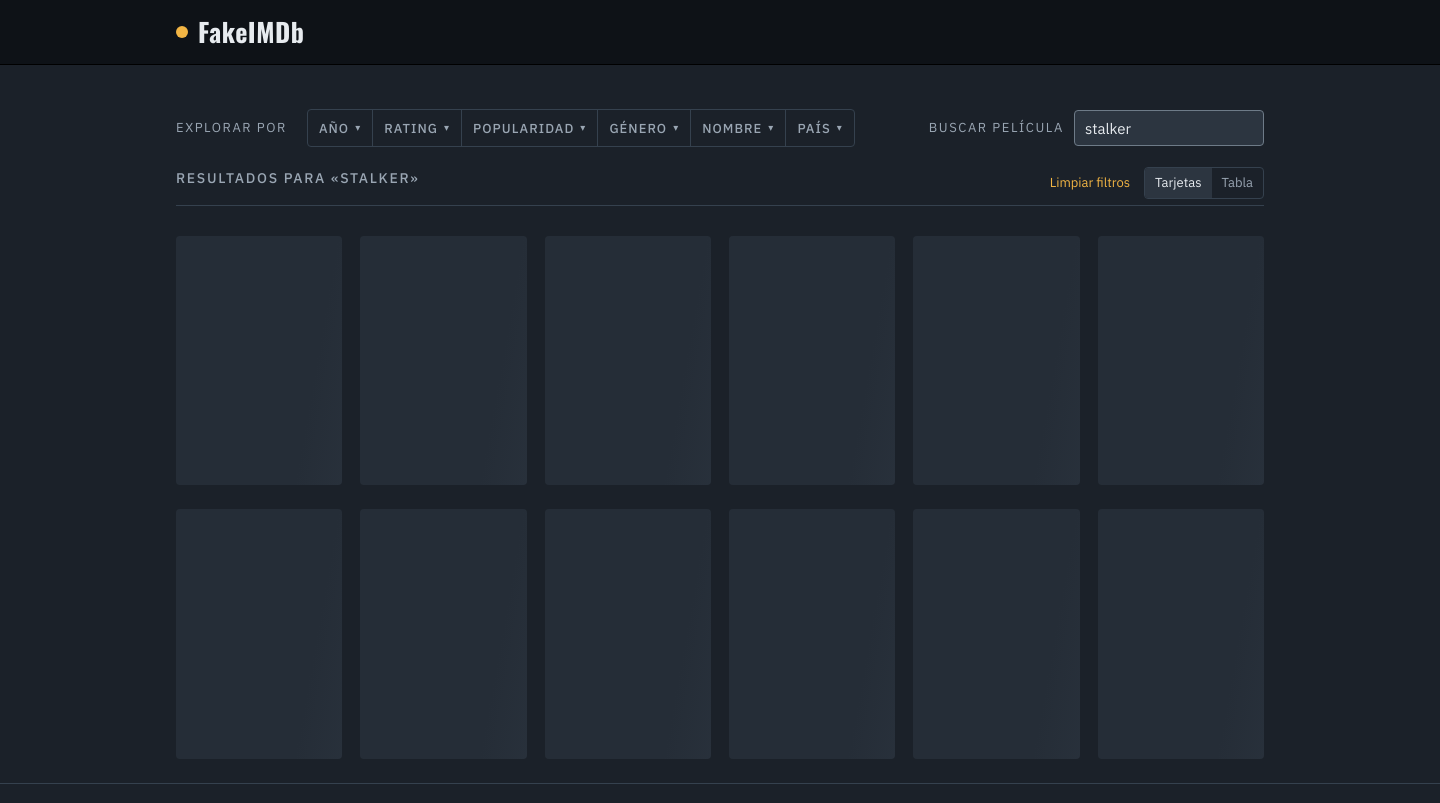
Test: browse page › never lets a slow old answer replace a newer one
Replace the text in the search field labelled "Buscar película" with "chihiro": (1169, 128) 1074,110 -> 1264,146
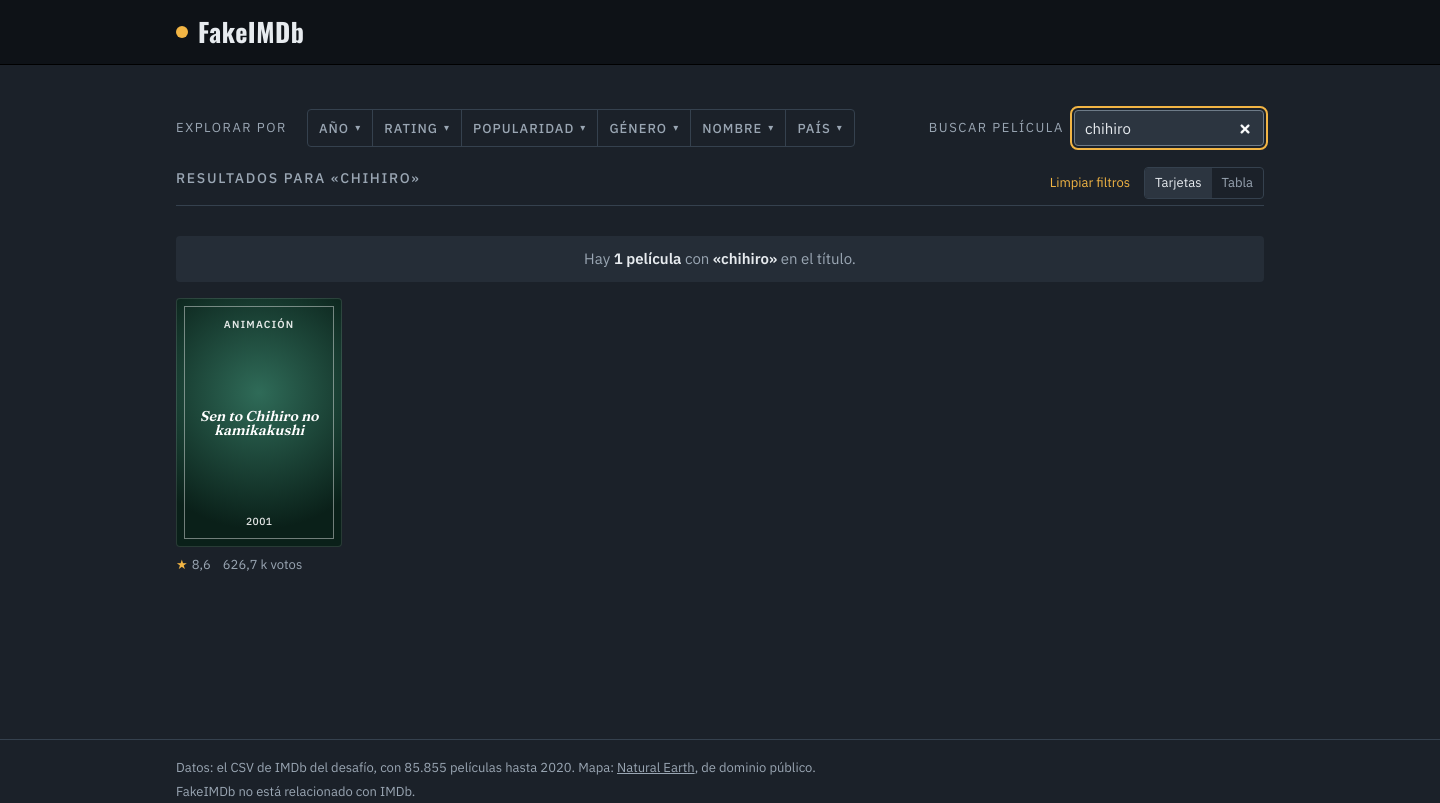
Check: the link with aria-label "Sen to Chihiro no kamikakushi (2001)" is shown, box 176,298 -> 342,548
Check: the heading reads "Resultados para «chihiro»", box 176,169 -> 420,187
